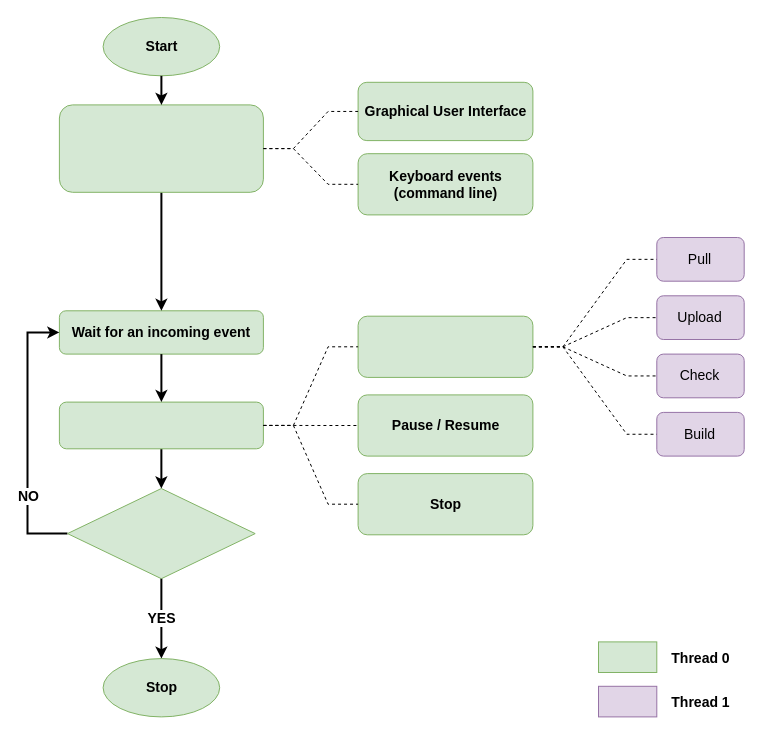
This 762x735 diagram has some shape labels left out. Here are the shapes that lost their labels. From the top down, the centre of each, then its label:
At (160,148): "Initialization".
At (445,346): "Launch".
At (160,425): "Call the handler of the event".
At (160,533): "System crash / shut down?".
